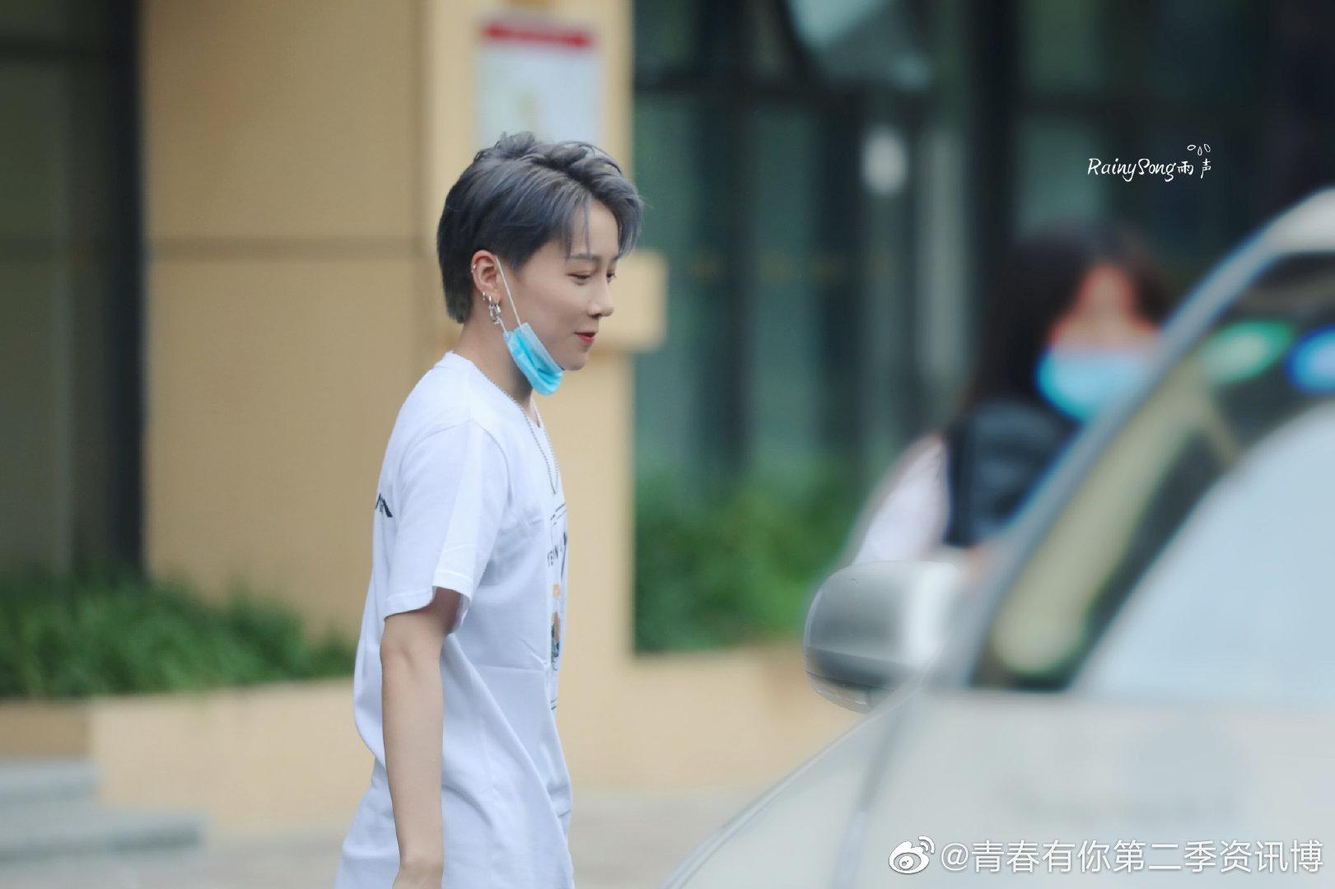WRONG: (510, 227, 623, 376)
